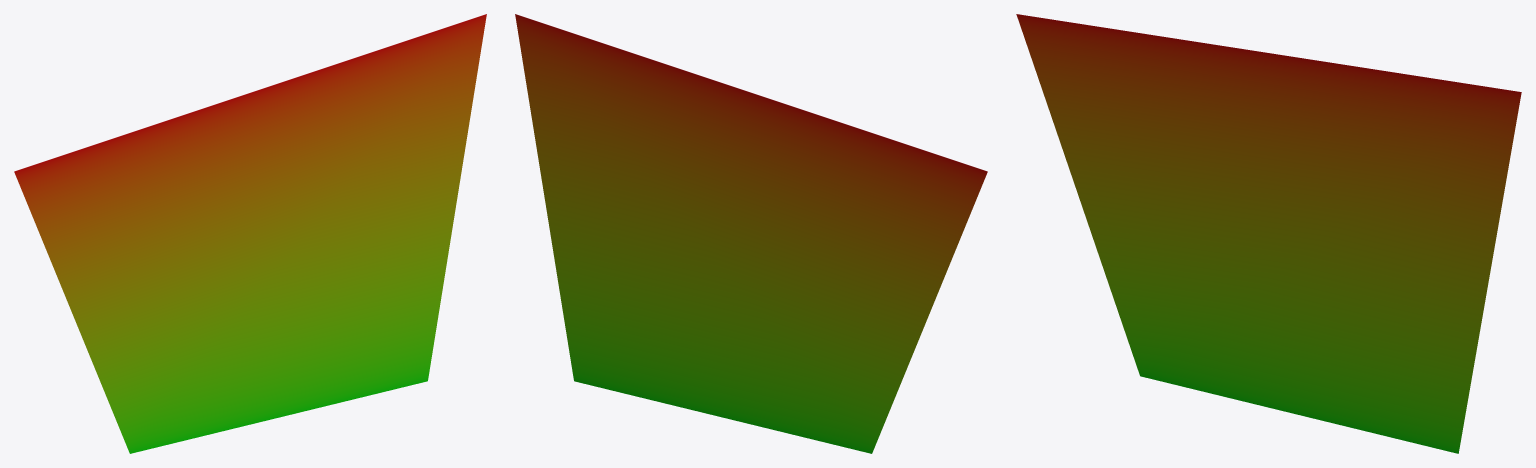
The model's file is Cast - Iron Plant_LOD3_Var6_shdmr.fbx.
3 views of the same model, side by side, from view 1: azimuth 30°, elevation 25°; view 2: azimuth 150°, elevation 25°; view 3: azimuth 330°, elevation 25° (orthographic). The views are drawn at different scales.
Parts seen in each view (by area): view 1: _4bf3_Var6_LOD3; view 2: _4bf3_Var6_LOD3; view 3: _4bf3_Var6_LOD3.
Part boxes in pixels (x1,y1,x2,y2): _4bf3_Var6_LOD3: (14,14,486,453); _4bf3_Var6_LOD3: (515,14,987,453); _4bf3_Var6_LOD3: (1016,14,1521,453).
Size of the model in its own units: 71.81 by 51.21 by 1.34e-05.
